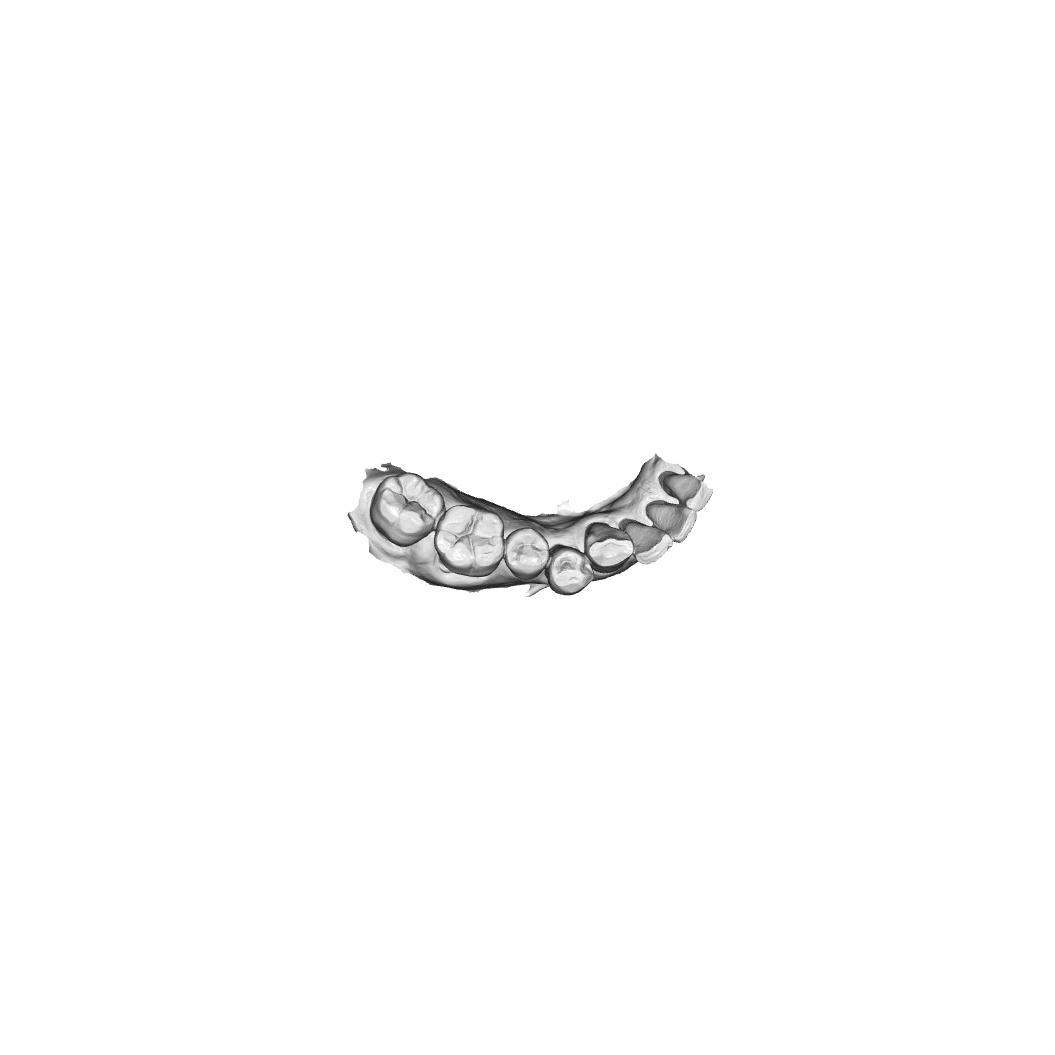canine: (583, 520, 635, 574)
incisor: (622, 519, 674, 566), (645, 501, 698, 544), (661, 473, 714, 512)
molar: (368, 471, 446, 549), (433, 503, 507, 578)
premolar: (545, 543, 594, 597), (503, 525, 550, 581)
